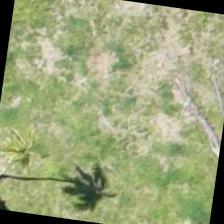Kelapa_Sawit: (0, 125, 56, 216)
